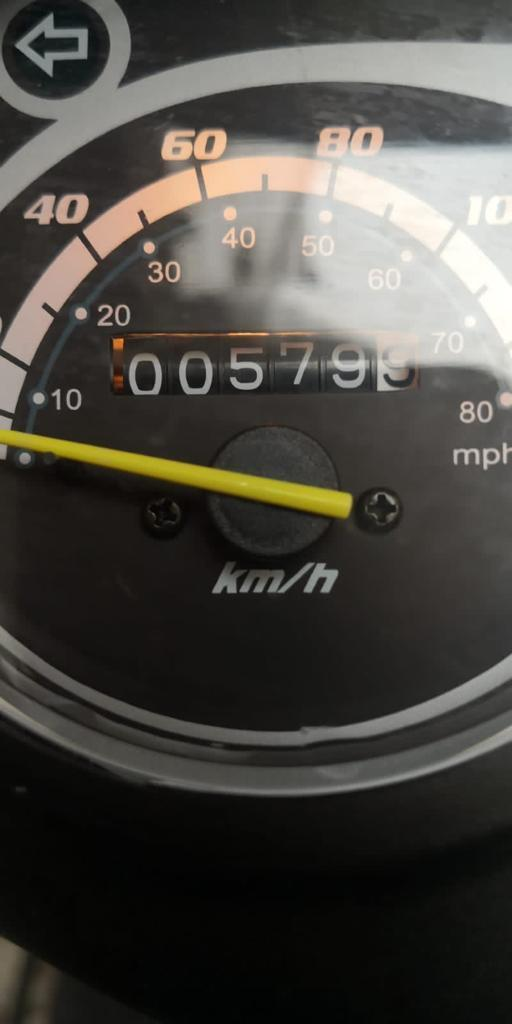0: (176, 344, 215, 396), (125, 348, 165, 397)
5: (224, 342, 267, 392)
7: (274, 339, 318, 386)
9: (377, 337, 417, 394), (328, 341, 368, 390)
odometer: (103, 327, 427, 400)
